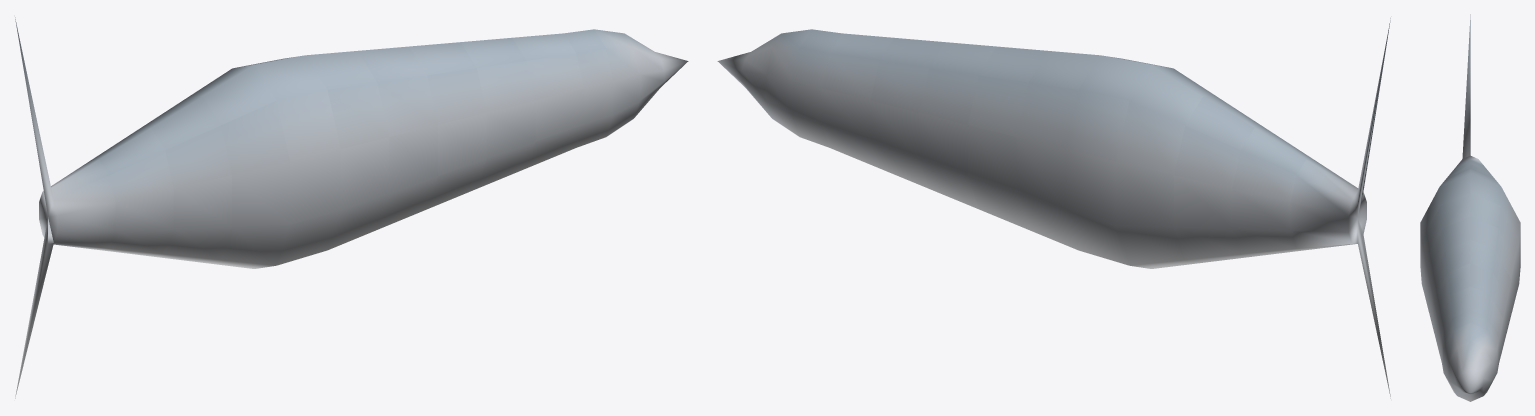
The model's file is Minnow.glb.
3 views of the same model, side by side, from view 1: azimuth 30°, elevation 25°; view 2: azimuth 150°, elevation 25°; view 3: azimuth 270°, elevation 25° (orthographic). The views are drawn at different scales.
Visible parts, largest first — view 1: Minnow; view 2: Minnow; view 3: Minnow.
Part boxes in pixels (x1,y1,x2,y2): Minnow: [15, 17, 688, 398]; Minnow: [717, 18, 1390, 398]; Minnow: [1420, 14, 1520, 401].
Bounding box in the file's own units: 0.2 × 0.11 × 0.0367.
